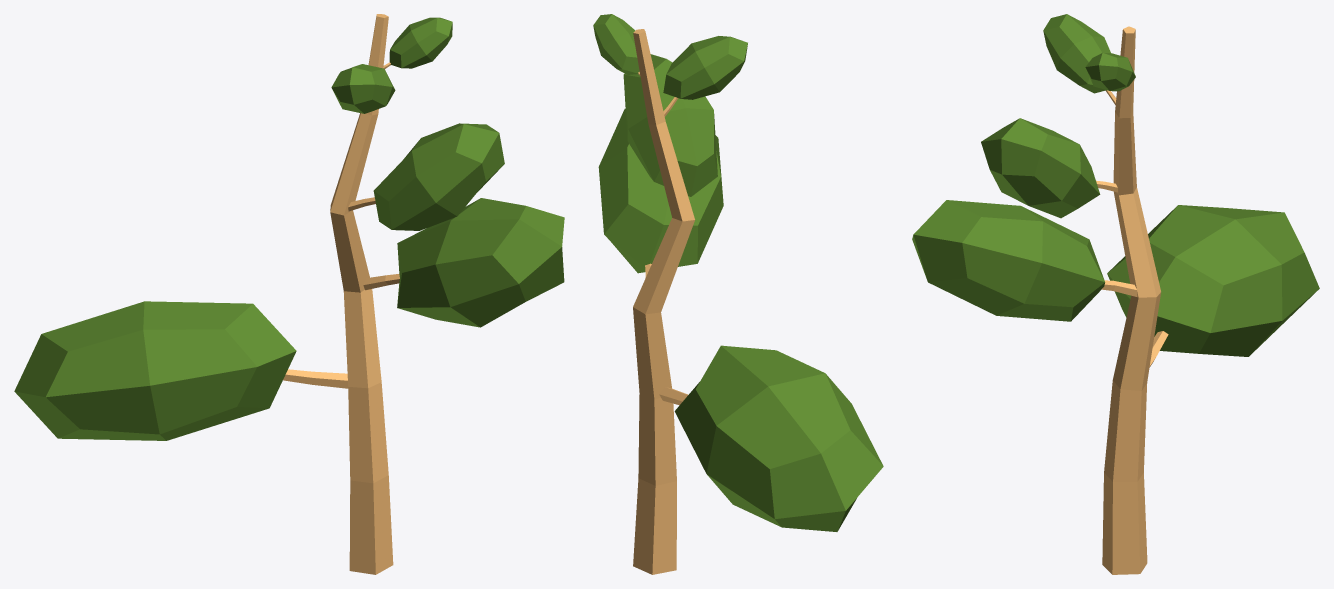
File: birch.obj
3 renders of one model, left to right at view 1: azimuth 30°, elevation 25°; view 2: azimuth 150°, elevation 25°; view 3: azimuth 270°, elevation 25°, orthographic. The views are drawn at different scales.
Parts seen in each view (by area): view 1: main_birch.001_leaf, main_birch.001_wood; view 2: main_birch.001_leaf, main_birch.001_wood; view 3: main_birch.001_leaf, main_birch.001_wood.
Boxes of the visible parts, x1,y1,x2,y2 form: main_birch.001_leaf: (14,17,564,440); main_birch.001_wood: (283,14,399,574); main_birch.001_leaf: (593,14,883,531); main_birch.001_wood: (633,29,694,574); main_birch.001_leaf: (912,14,1319,356); main_birch.001_wood: (1096,26,1168,574).
Bounding box in the file's own units: 7.62 × 10.13 × 6.86.
